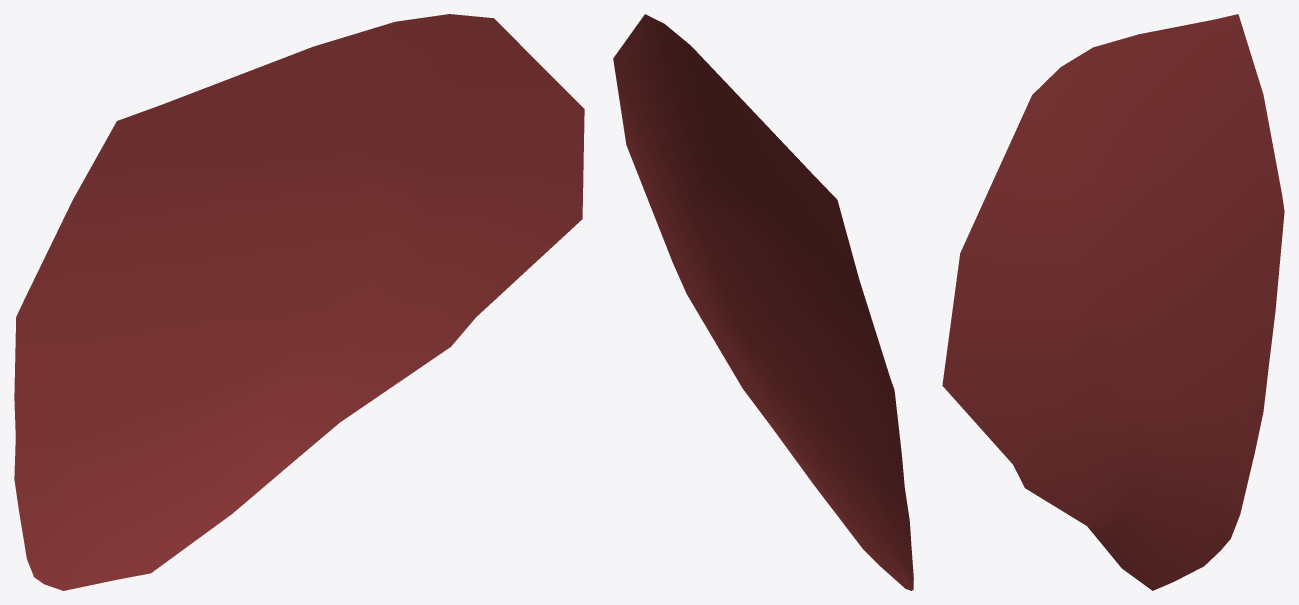
File: longissimus-thoracis-muscle-e4r.glb
3 views of the same model, side by side, from view 1: azimuth 30°, elevation 25°; view 2: azimuth 150°, elevation 25°; view 3: azimuth 270°, elevation 25° (orthographic). The views are drawn at different scales.
Parts seen in each view (by area): view 1: Longissimus thoracis muscle.e4r; view 2: Longissimus thoracis muscle.e4r; view 3: Longissimus thoracis muscle.e4r.
Part boxes in pixels (x1,y1,x2,y2): Longissimus thoracis muscle.e4r: (14,14,584,590); Longissimus thoracis muscle.e4r: (613,14,913,590); Longissimus thoracis muscle.e4r: (942,14,1284,590).
Bounding box in the file's own units: 0.007 × 0.00783 × 0.00339.
